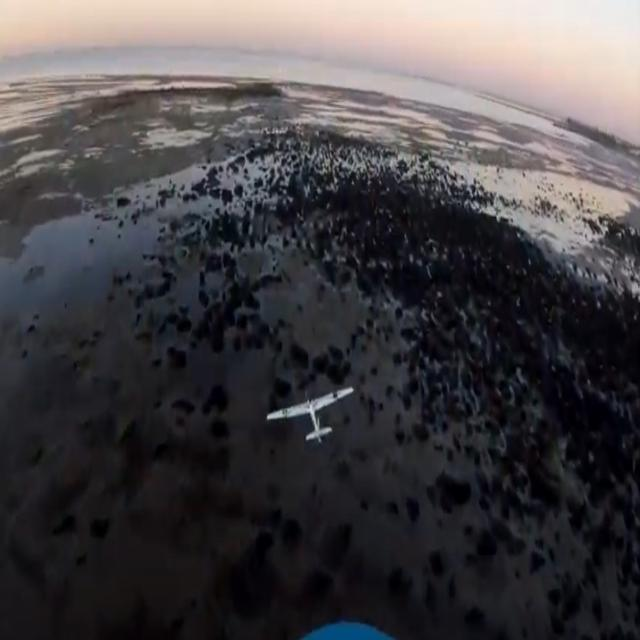iha: (299, 385, 323, 442)
